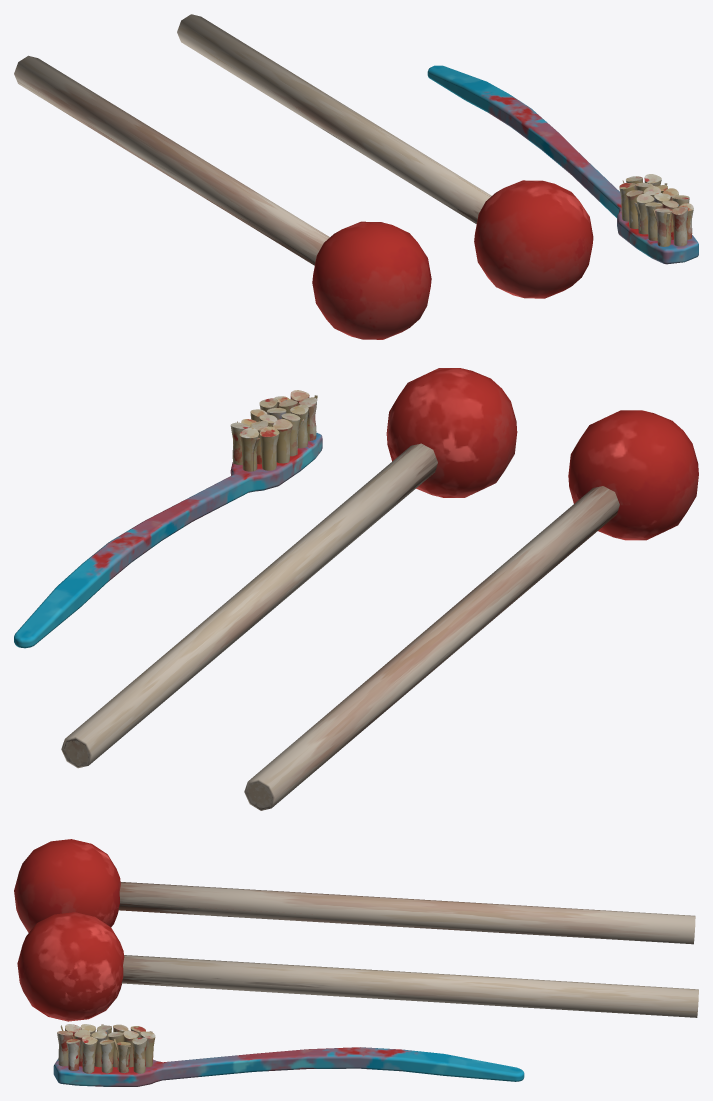
Rendered from new_sticks_toothbrush.fbx.
3 renders of one model, top to bottom at view 1: azimuth 30°, elevation 25°; view 2: azimuth 150°, elevation 25°; view 3: azimuth 270°, elevation 25°, orthographic. The views are drawn at different scales.
Parts seen in each view (by area): view 1: xylophone_stick1, xylophone_stick2, toothbrush; view 2: xylophone_stick2, xylophone_stick1, toothbrush; view 3: xylophone_stick2, xylophone_stick1, toothbrush.
Boxes of the visible parts, bbox=[...] form: xylophone_stick1: bbox=[14, 55, 431, 339]; xylophone_stick2: bbox=[177, 14, 593, 298]; toothbrush: bbox=[427, 65, 698, 264]; xylophone_stick2: bbox=[61, 368, 517, 768]; xylophone_stick1: bbox=[244, 410, 698, 810]; toothbrush: bbox=[14, 390, 322, 648]; xylophone_stick2: bbox=[17, 912, 698, 1021]; xylophone_stick1: bbox=[14, 839, 695, 944]; toothbrush: bbox=[53, 1024, 524, 1086].
Size of the model in its own units: 432 by 118 by 737.
